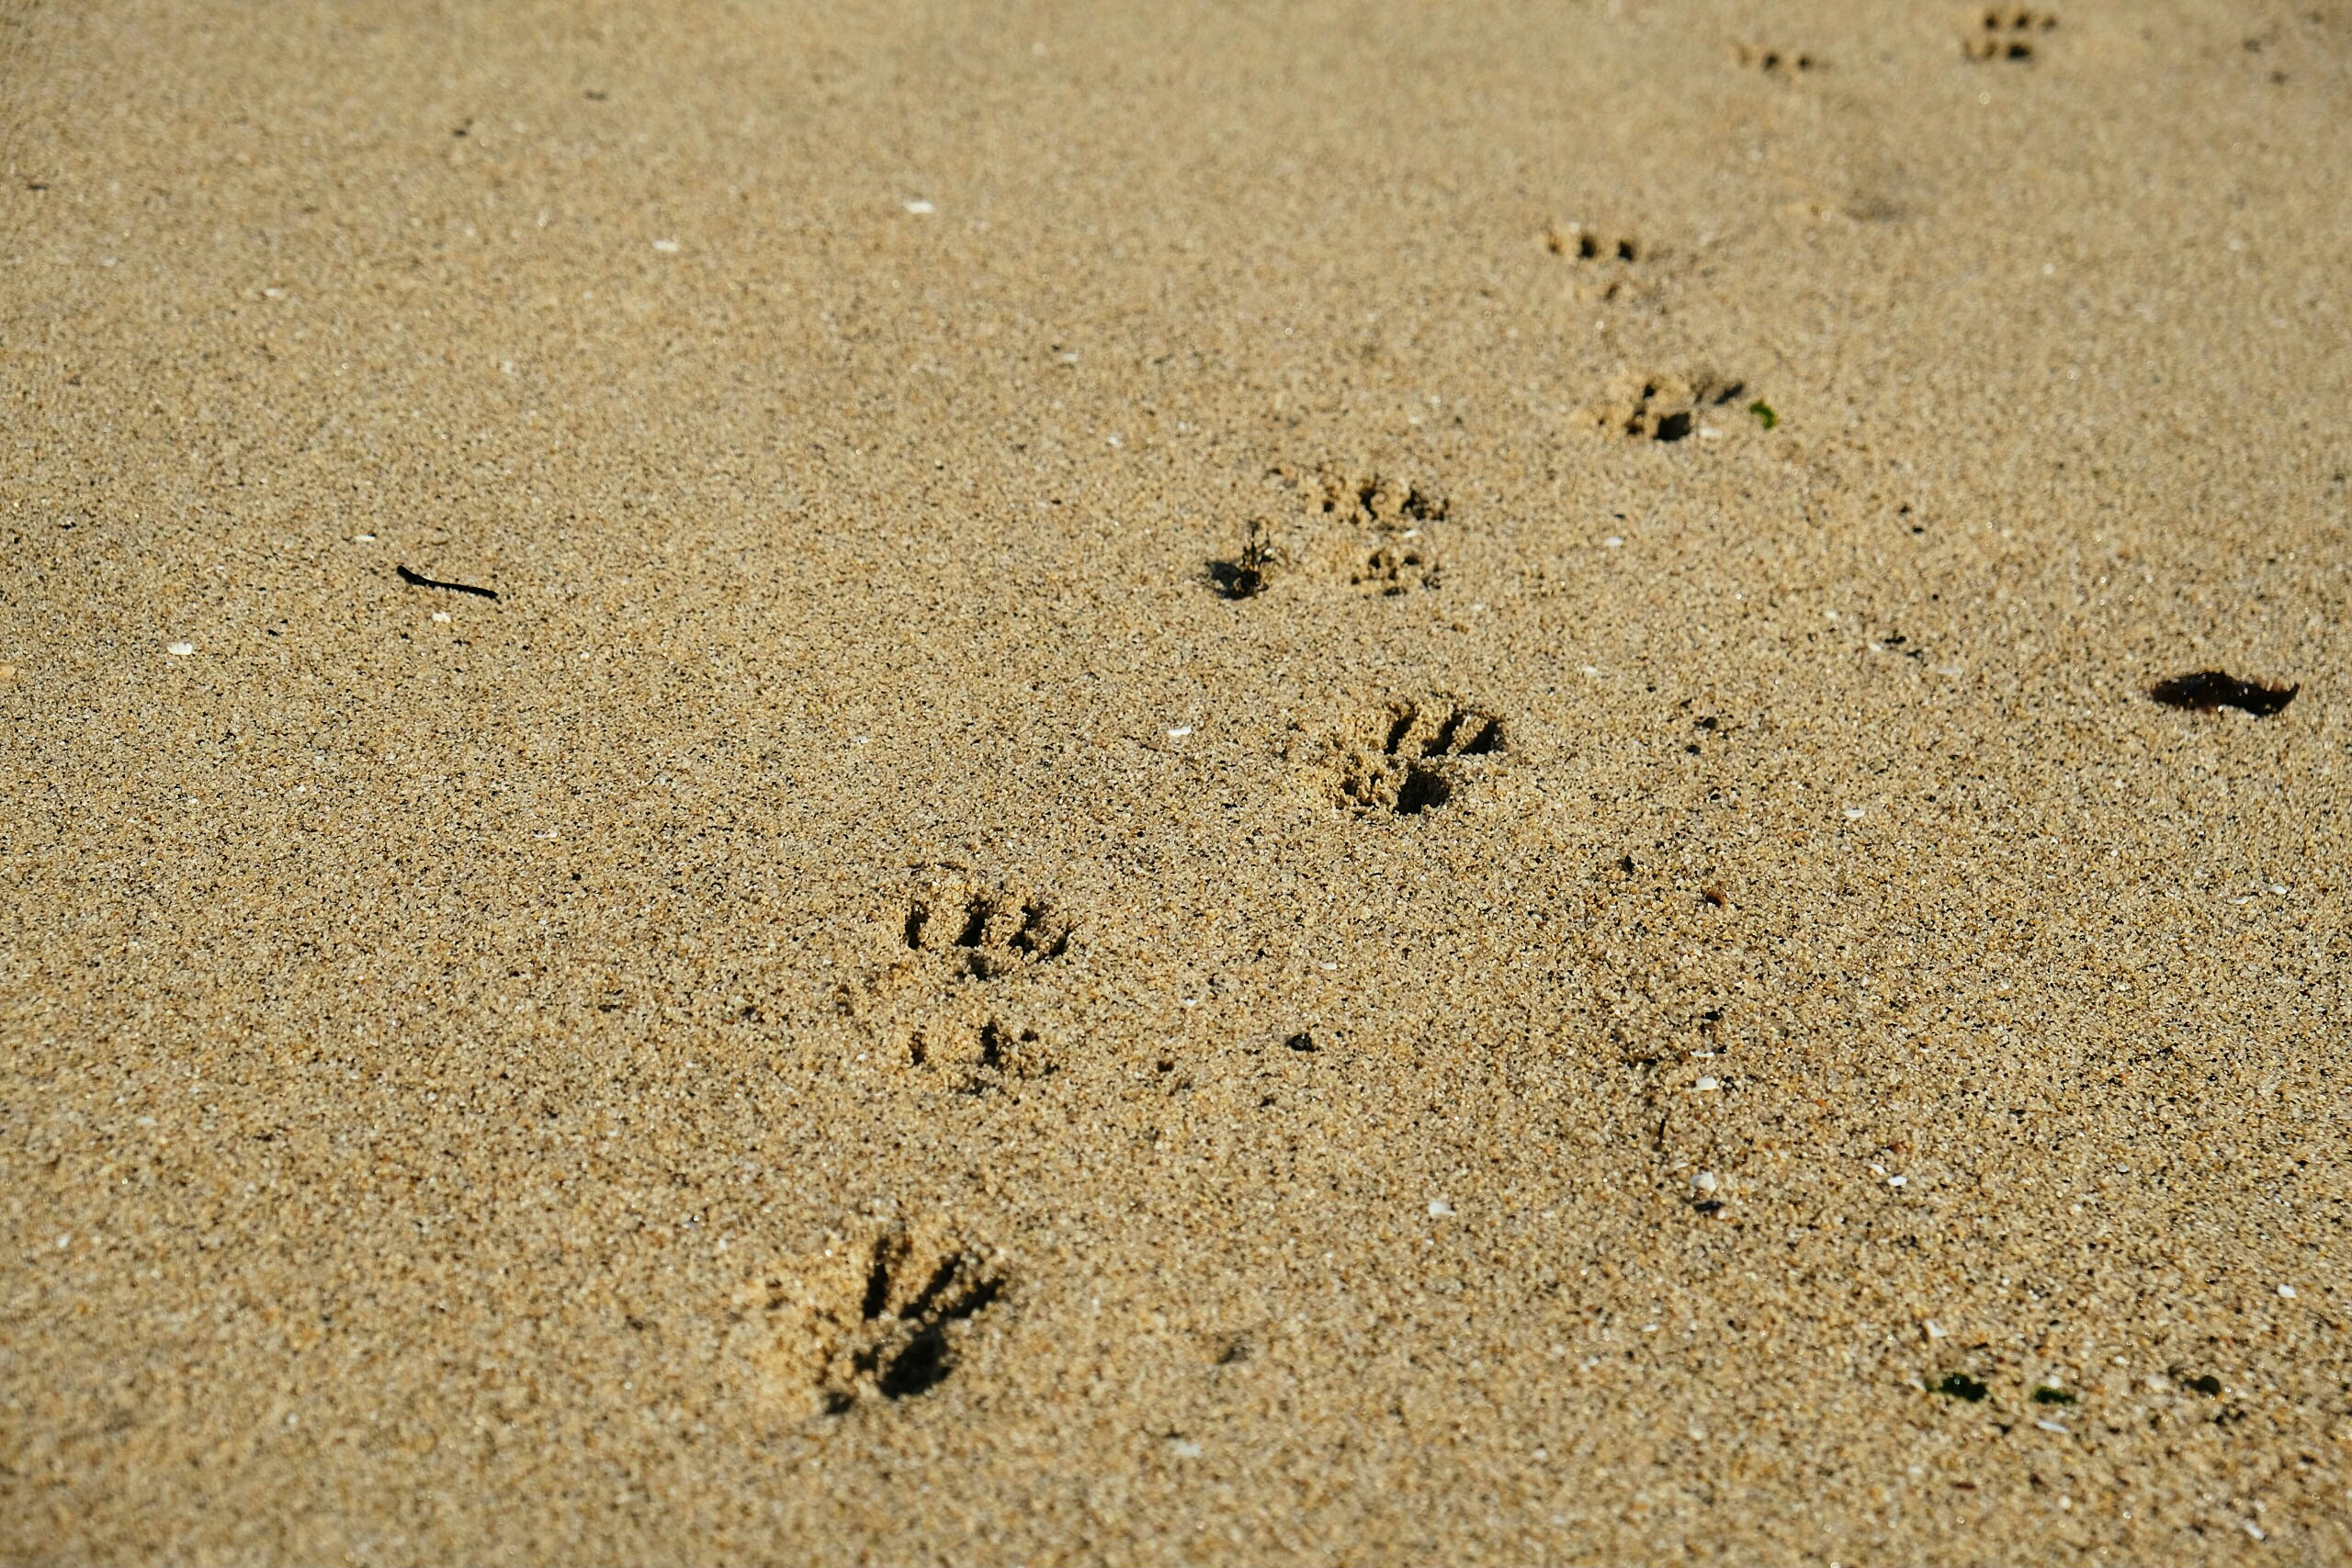chien: (808, 1237, 1025, 1437)
